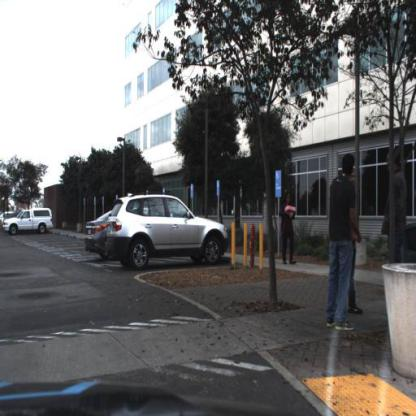car: (105, 191, 230, 274), (4, 204, 57, 242), (85, 209, 119, 263), (1, 207, 56, 238), (82, 209, 111, 261)
pedestrian: (327, 151, 356, 334), (382, 149, 406, 309), (278, 188, 298, 271), (280, 190, 298, 268)
